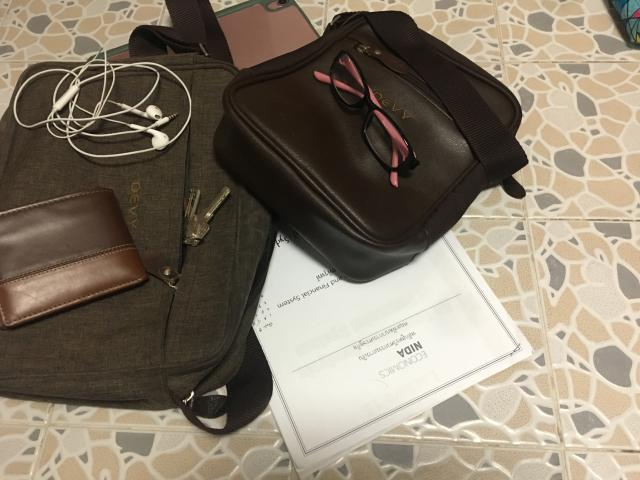Glasses: (315, 50, 419, 188)
Keys: (184, 186, 230, 246)
Wallet: (0, 188, 148, 329)
paper: (254, 226, 532, 476)
wire: (8, 60, 192, 159)
